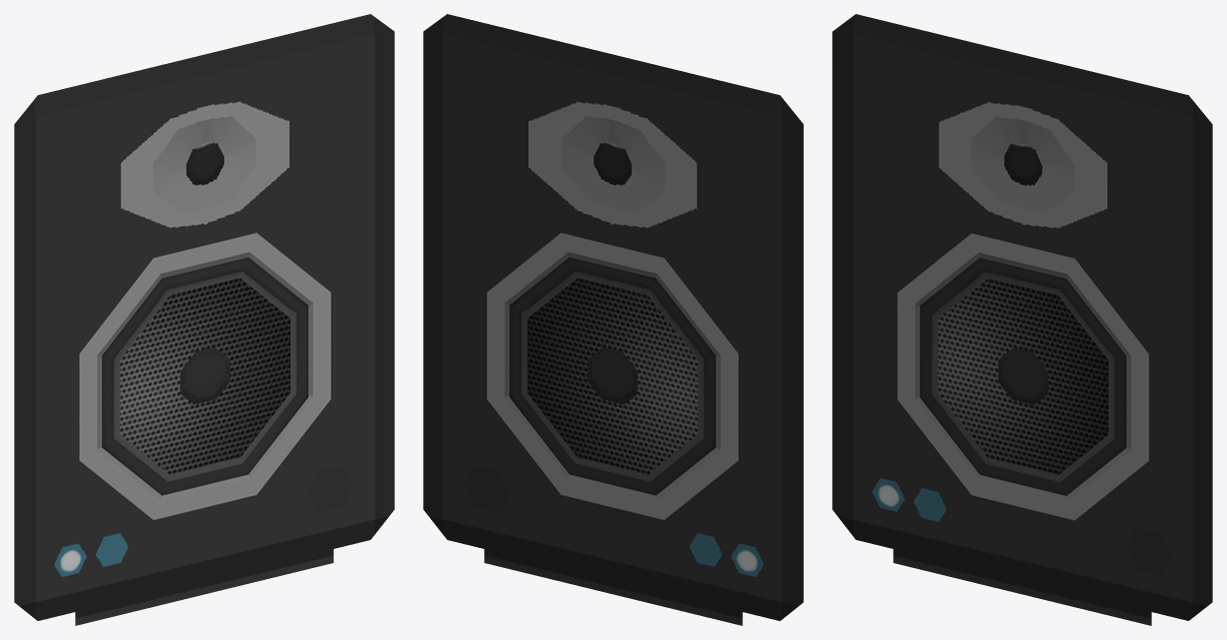
File: 2Dspeaker.fbx
3 renders of one model, left to right at view 1: azimuth 30°, elevation 25°; view 2: azimuth 150°, elevation 25°; view 3: azimuth 330°, elevation 25°, orthographic.
Visible parts, largest first — view 1: pPlane1; view 2: pPlane1; view 3: pPlane1.
Part boxes in pixels (box(x1,y1,x2,y2)): pPlane1: box(14, 14, 394, 625); pPlane1: box(423, 14, 803, 625); pPlane1: box(832, 14, 1212, 625).
Bounding box in the file's own units: 0.83 × 1.12 × 0.
1 material, 1 textured.
